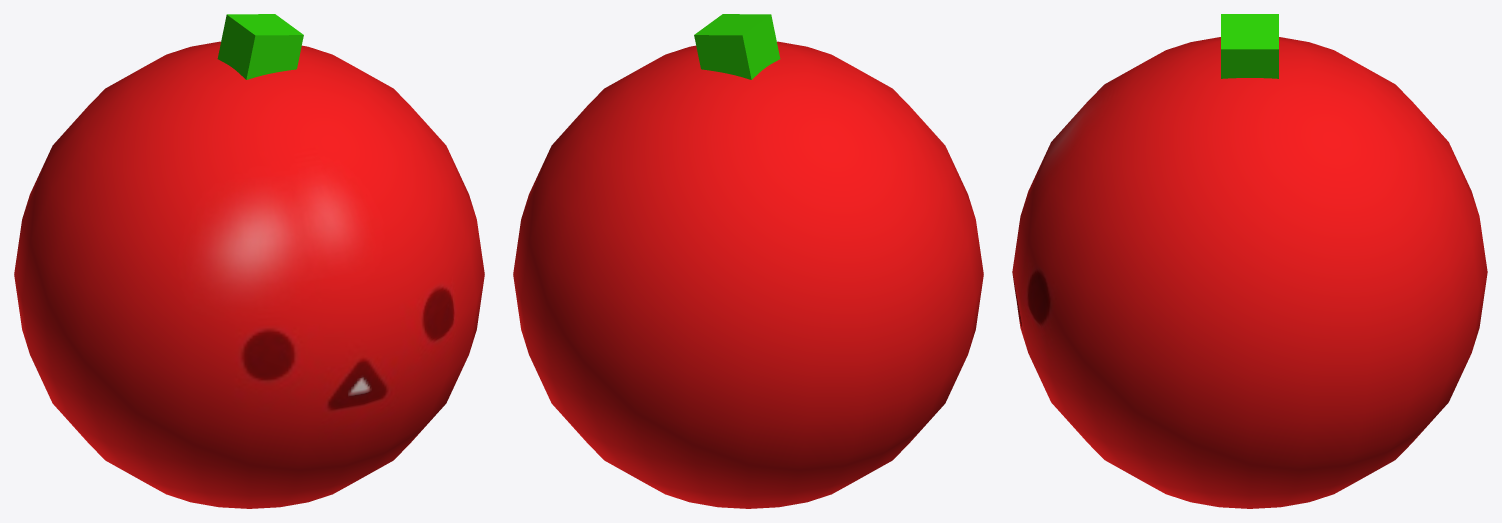
File: fruit_5.glb
The picture shows the model from 3 angles, left to right: view 1: azimuth 30°, elevation 25°; view 2: azimuth 150°, elevation 25°; view 3: azimuth 270°, elevation 25°; orthographic projection.
Visible parts, largest first — view 1: 5_FRUIT; view 2: 5_FRUIT; view 3: 5_FRUIT.
Part boxes in pixels (bbox=[...]): 5_FRUIT: bbox=[14, 14, 484, 508]; 5_FRUIT: bbox=[513, 14, 983, 508]; 5_FRUIT: bbox=[1012, 14, 1487, 508].
Size of the model in its own units: 2.1 by 2.29 by 2.1.
Materials: 2 (1 with a texture image).
